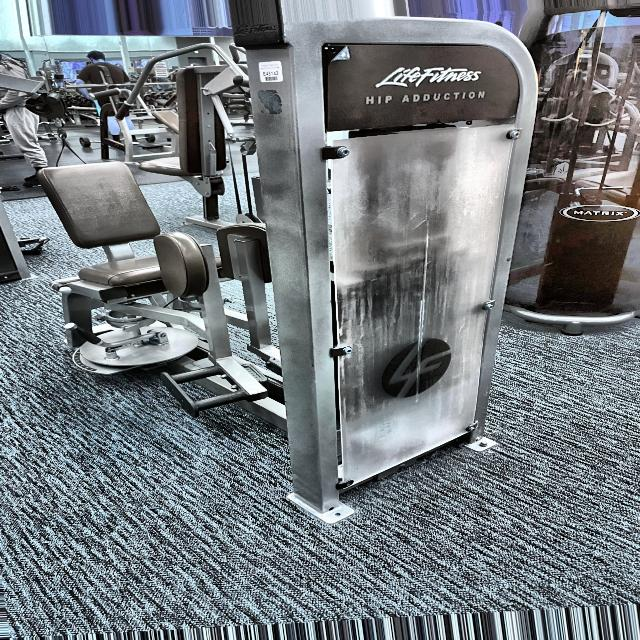hip_adduction_machine: (17, 127, 232, 443), (358, 80, 496, 129)
